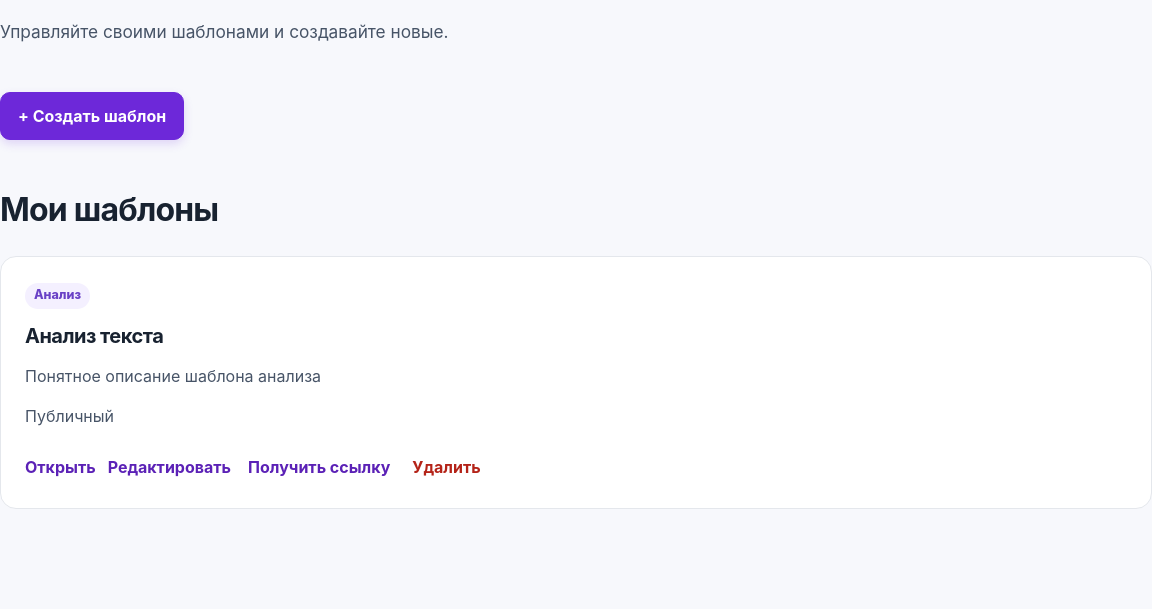
страницы › выдаёт ссылку после проверки сервера и сообщает об ошибке публикации
The width and height of the screenshot is (1152, 609).
Expected: the heading "Анализ текста" is shown, [25,324,163,348]
Click the button "Получить ссылку".
click(319, 467)  # box [243,450,395,484]
(page scrolled)
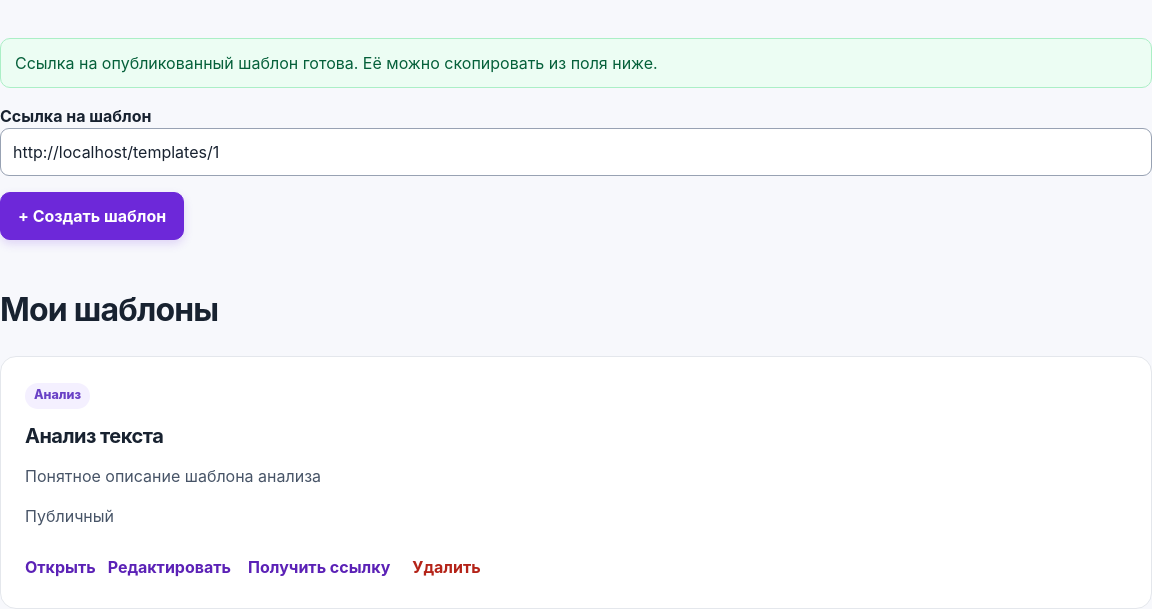
Expected: the field labelled "Ссылка на шаблон" holds "http://localhost/templates/1", [0,128,1151,176]
Click the button "Получить ссылку".
click(319, 567)  # box [243,550,395,584]
(page scrolled)
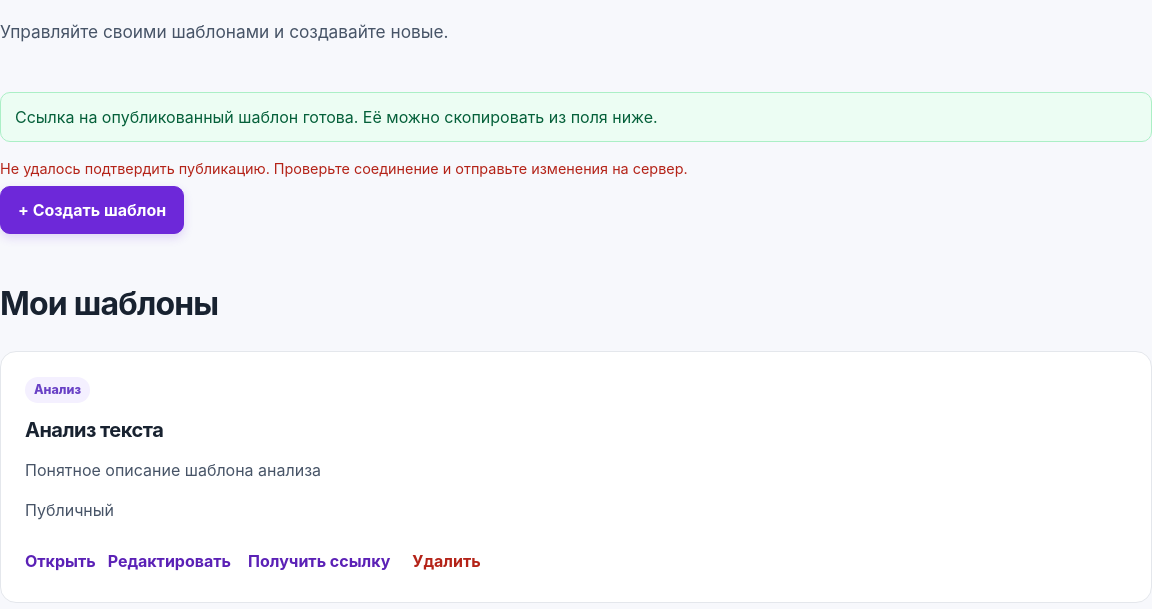
Expected: the 2nd message shows "Не удалось подтвердить публикацию", [0,160,688,176]
Expected: the label labelled "Ссылка на шаблон" is gone
